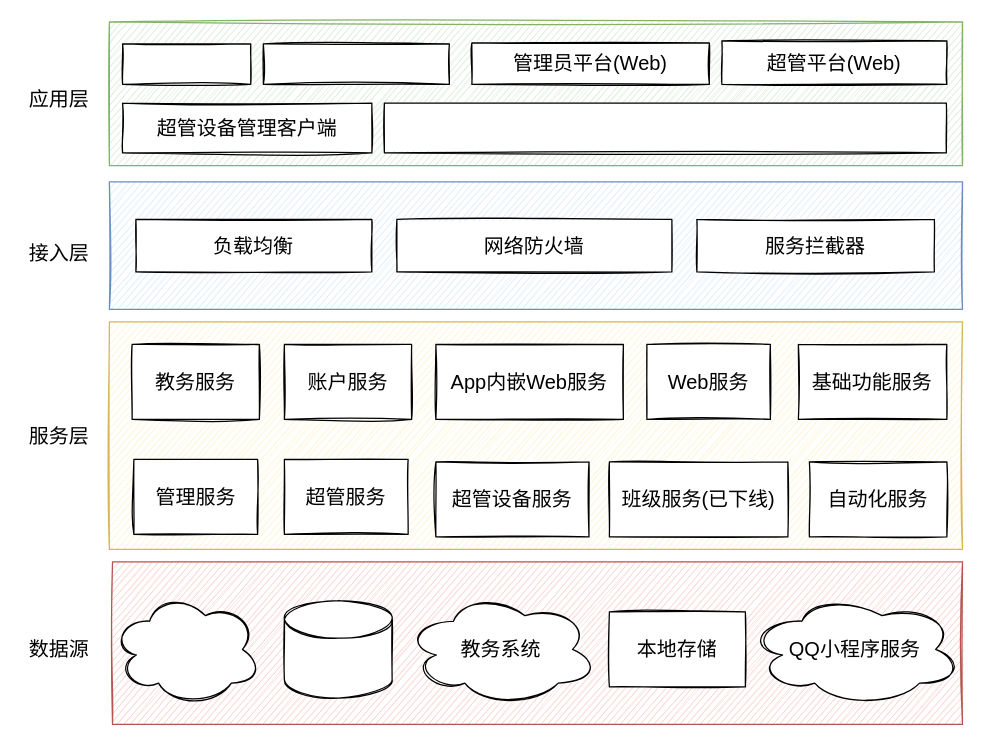
Some shapes in this 984 by 746 pixel diagram are drawn without their labels. Here are the shapes that lost their labels. From the top down, the centre of each, then its label:
pixel 186 63: QQ小程序
pixel 355 63: Android客户端
pixel 664 127: 超管授权工具客户端(包括Android、iOS、Windows、Mac)
pixel 186 649: 对象存储
pixel 337 648: 数据库
